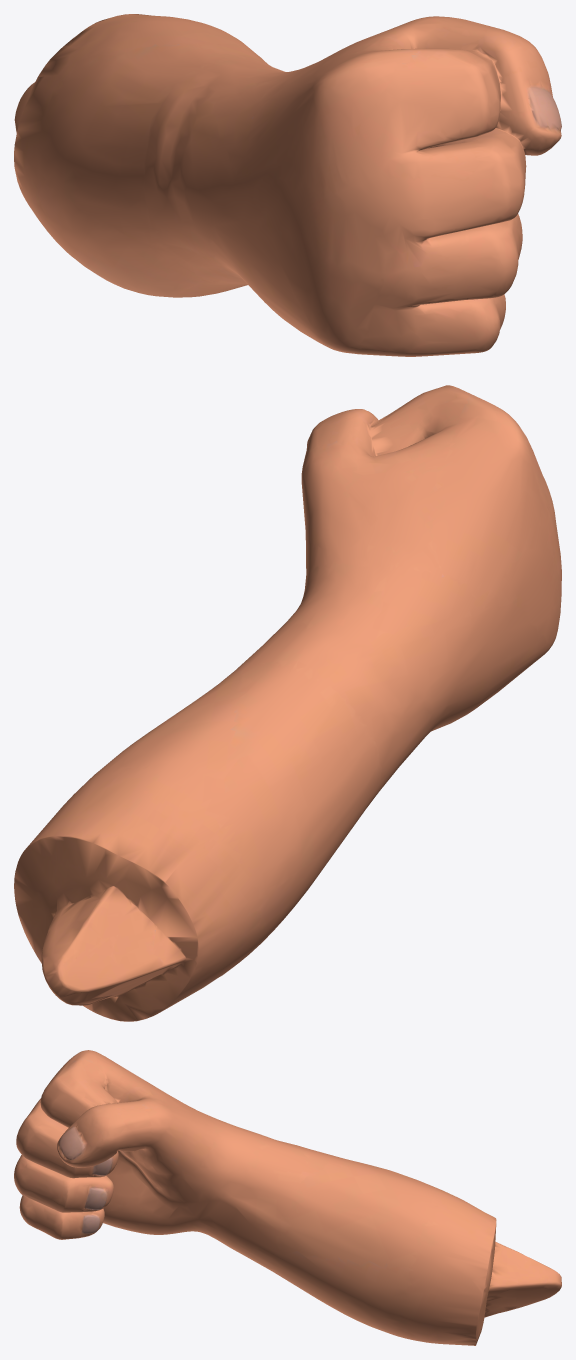
The model's file is fist.glb.
3 views of the same model, one above another, from view 1: azimuth 30°, elevation 25°; view 2: azimuth 150°, elevation 25°; view 3: azimuth 270°, elevation 25° (orthographic). The views are drawn at different scales.
Size of the model in its own units: 0.5991 by 1.02 by 1.9.
Materials: 1 (1 with a texture image).
